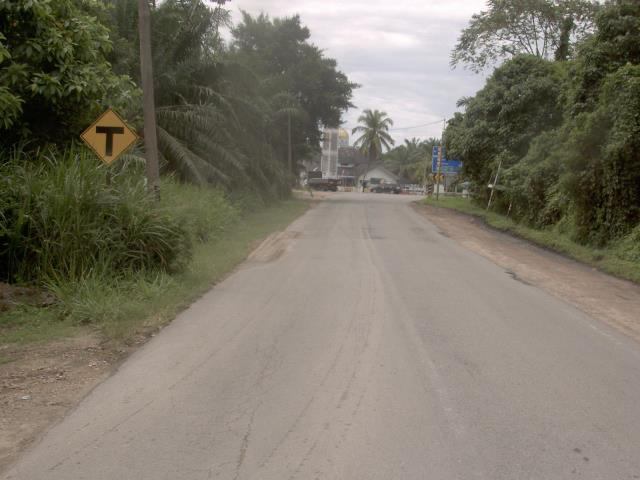traffic_sign: (72, 100, 145, 172)
